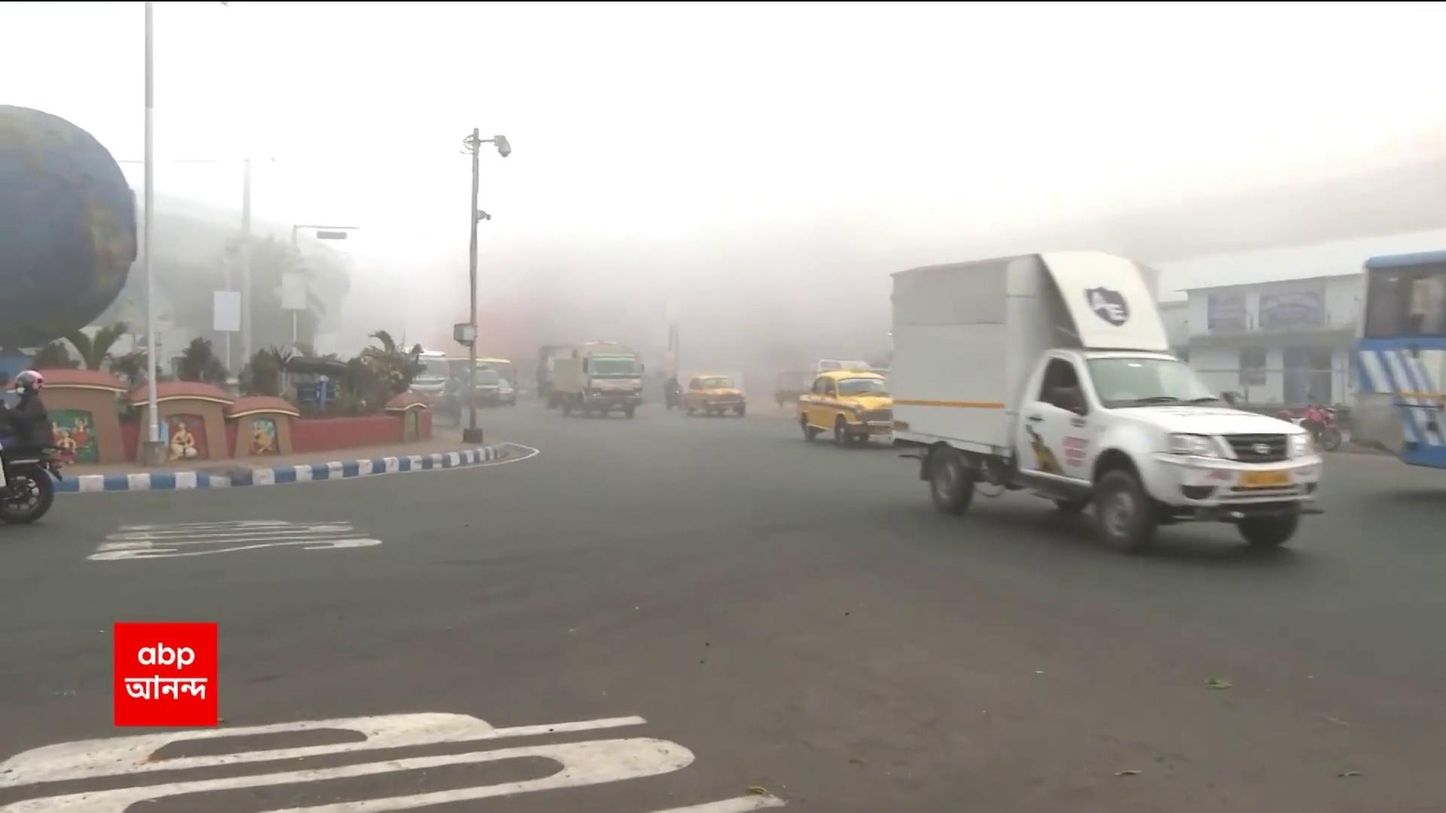Car: (795, 369, 892, 445), (683, 374, 747, 416)
Truck: (886, 244, 1326, 549), (552, 340, 645, 418)
